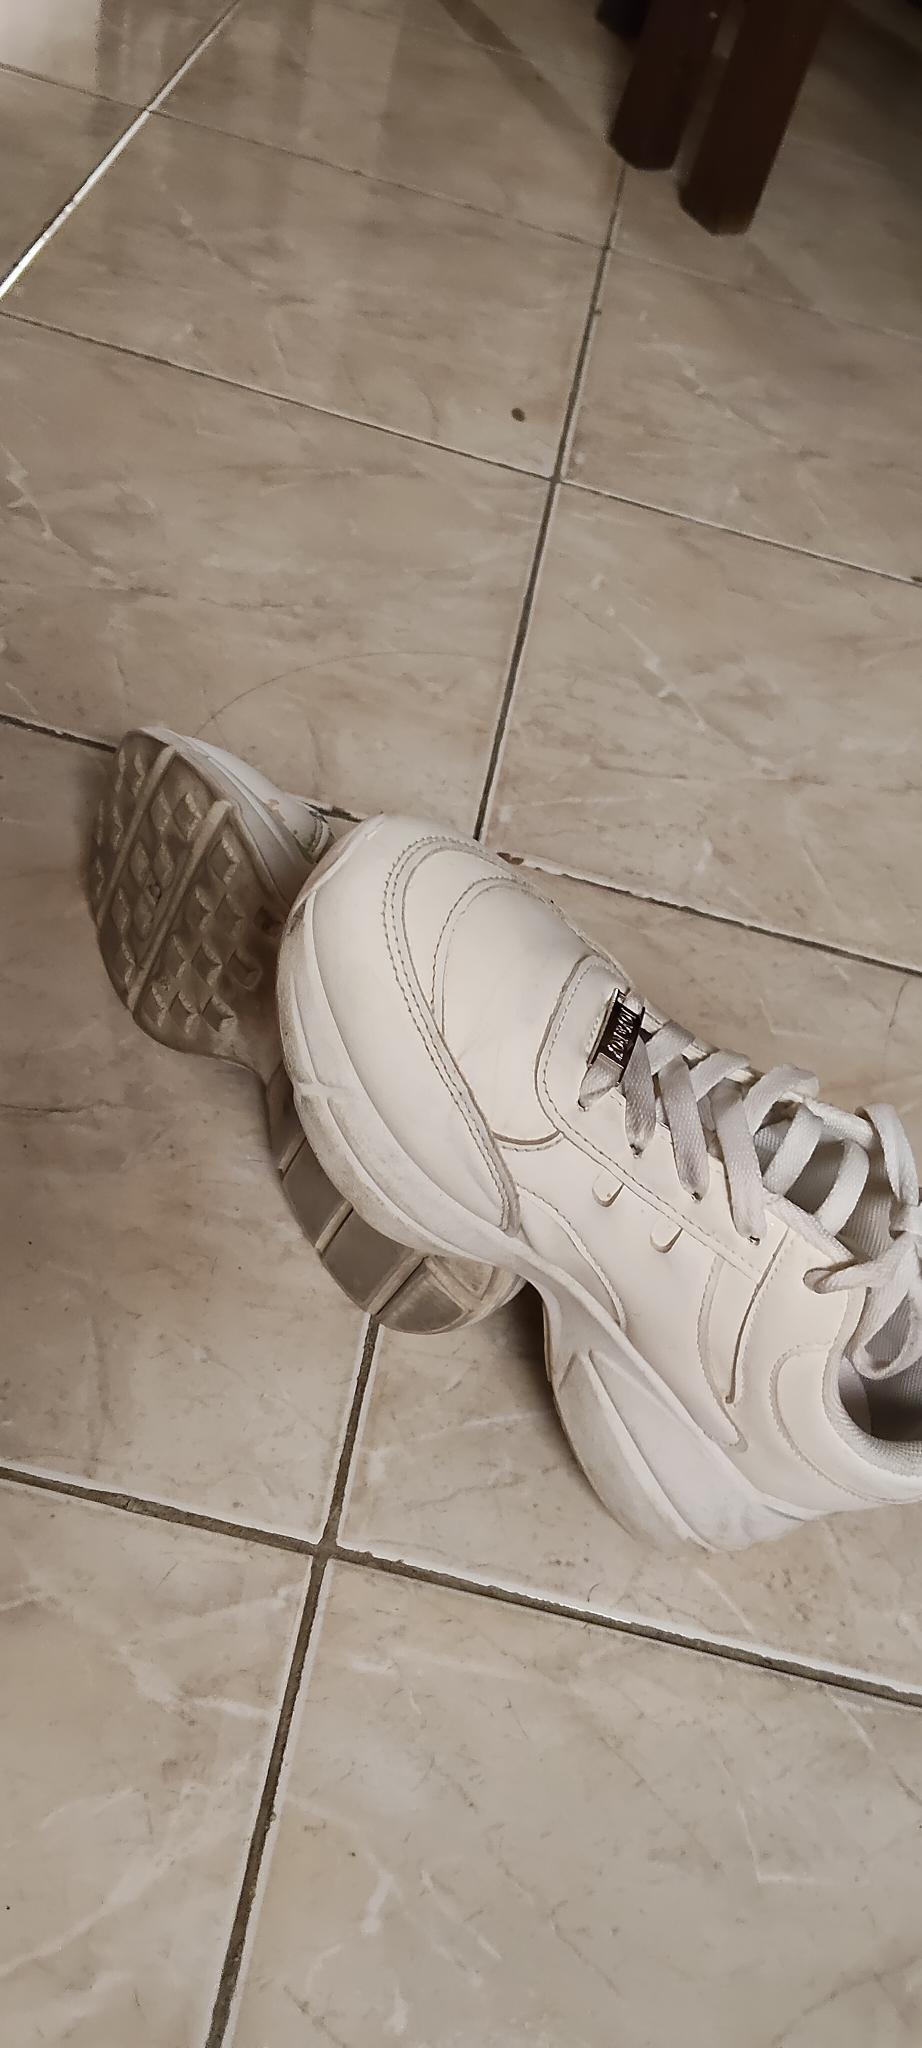Shoes: (277, 813, 922, 1553), (85, 726, 535, 1336)
